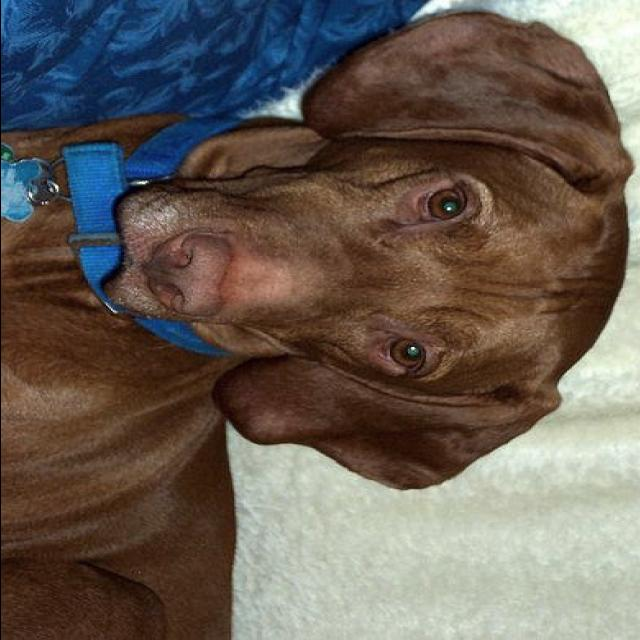vizsla: (2, 9, 636, 639)
